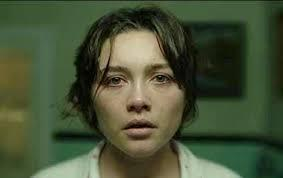person: (64, 1, 205, 159)
